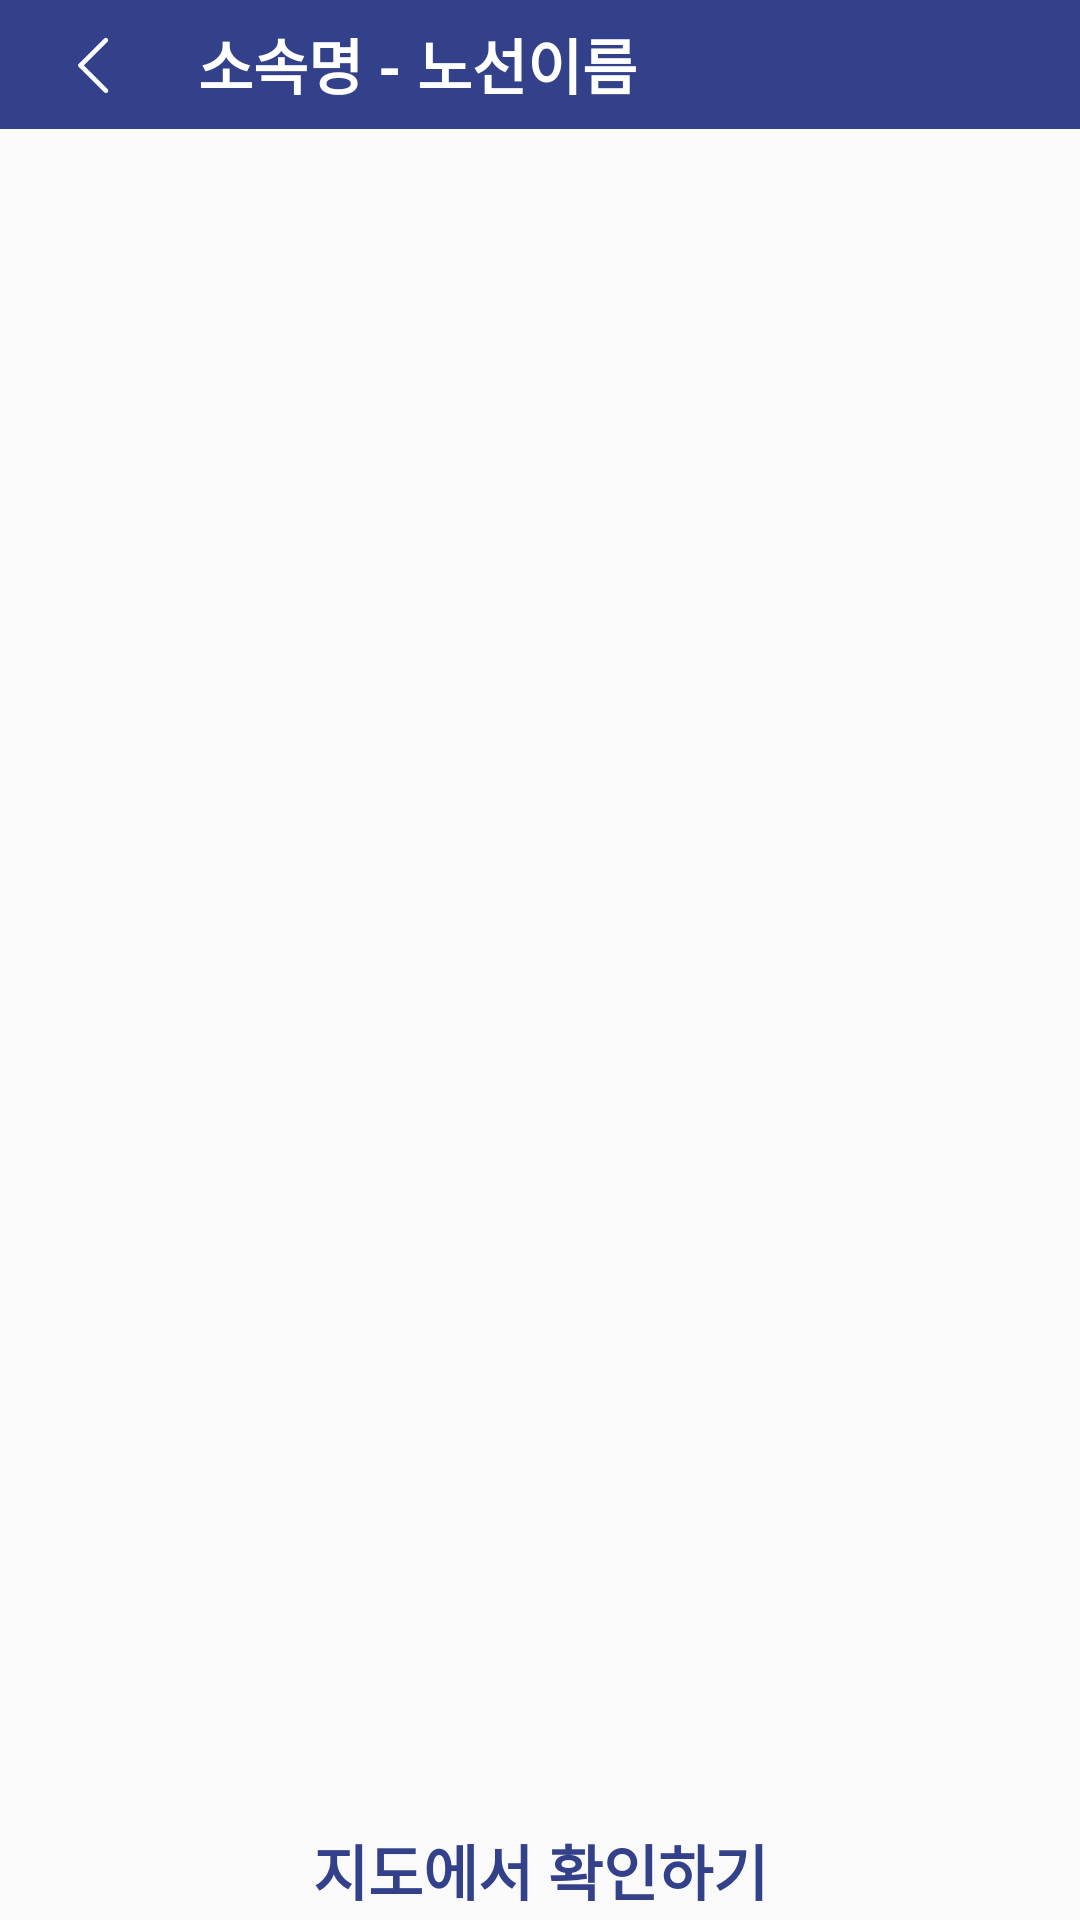

Icon click points for this 1080 x 1920 phone screenshot, format (x,y):
arrow: (93,65)
